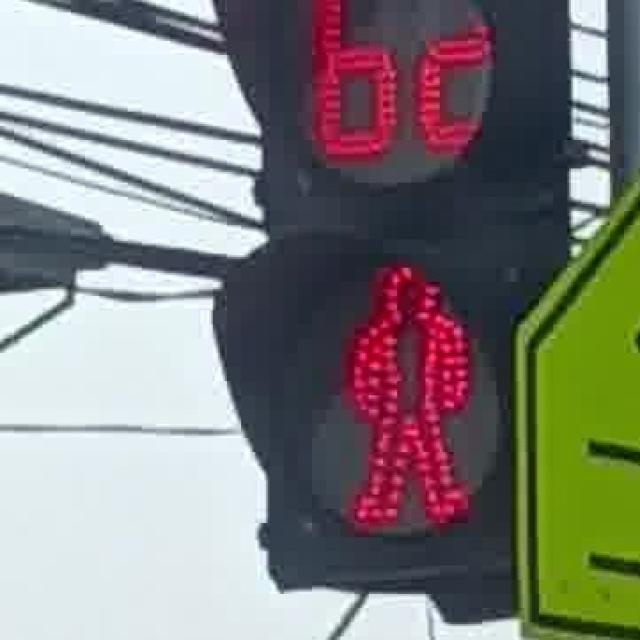red_light: (324, 243, 488, 549)
